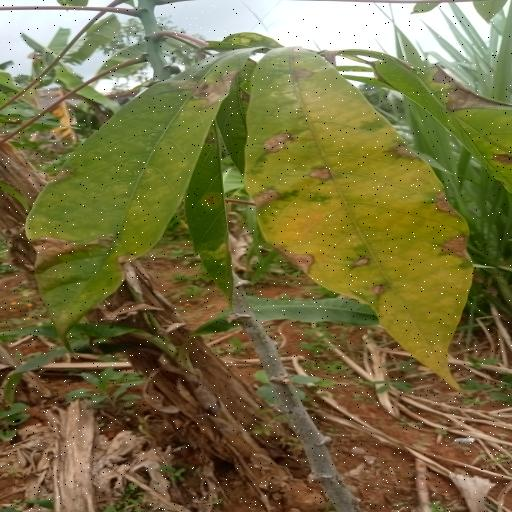Cassava_Bacterial_Disease: (25, 40, 509, 364)
